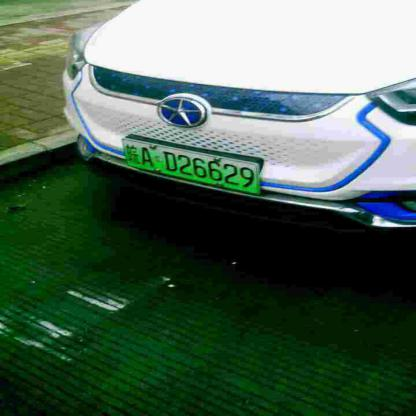lp: (123, 138, 259, 194)
